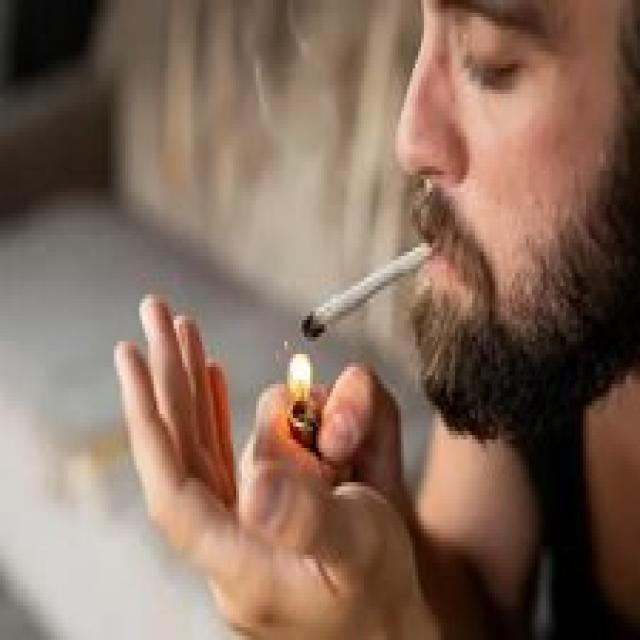cigarette: (299, 235, 438, 341)
